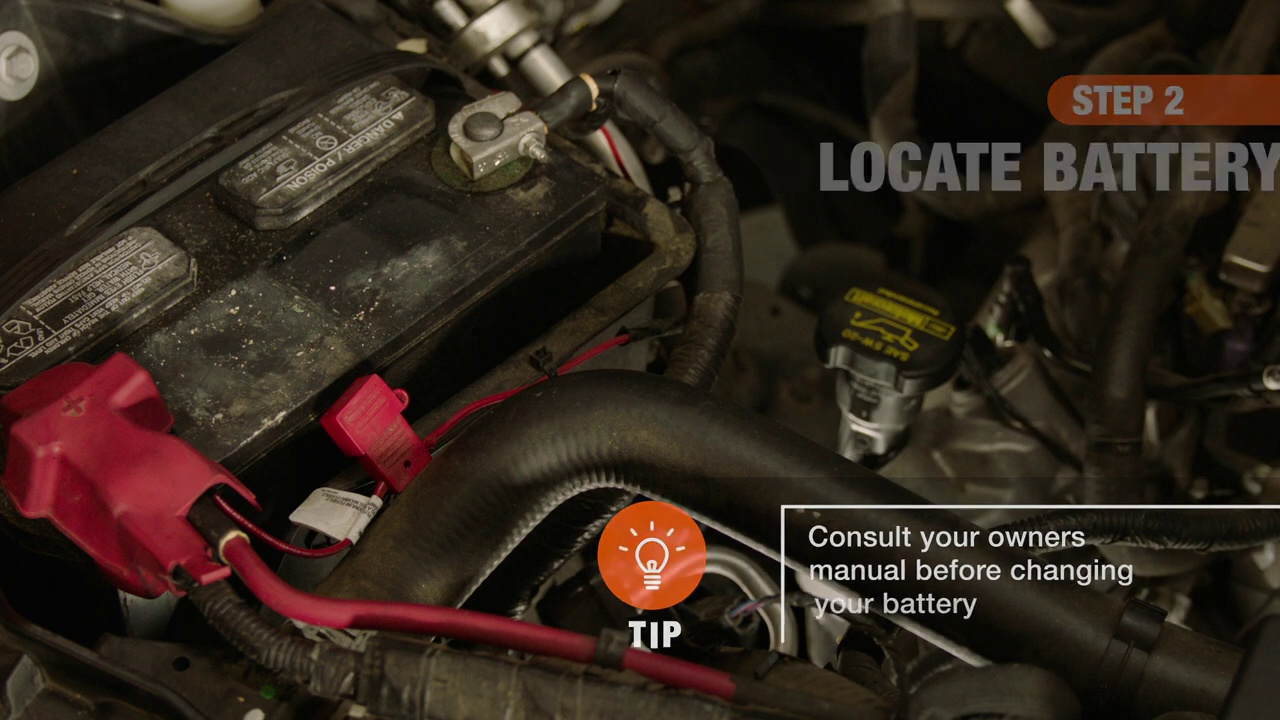battery: (11, 11, 606, 568)
neg_connected: (416, 64, 593, 197)
pos_connected: (15, 349, 235, 561)
